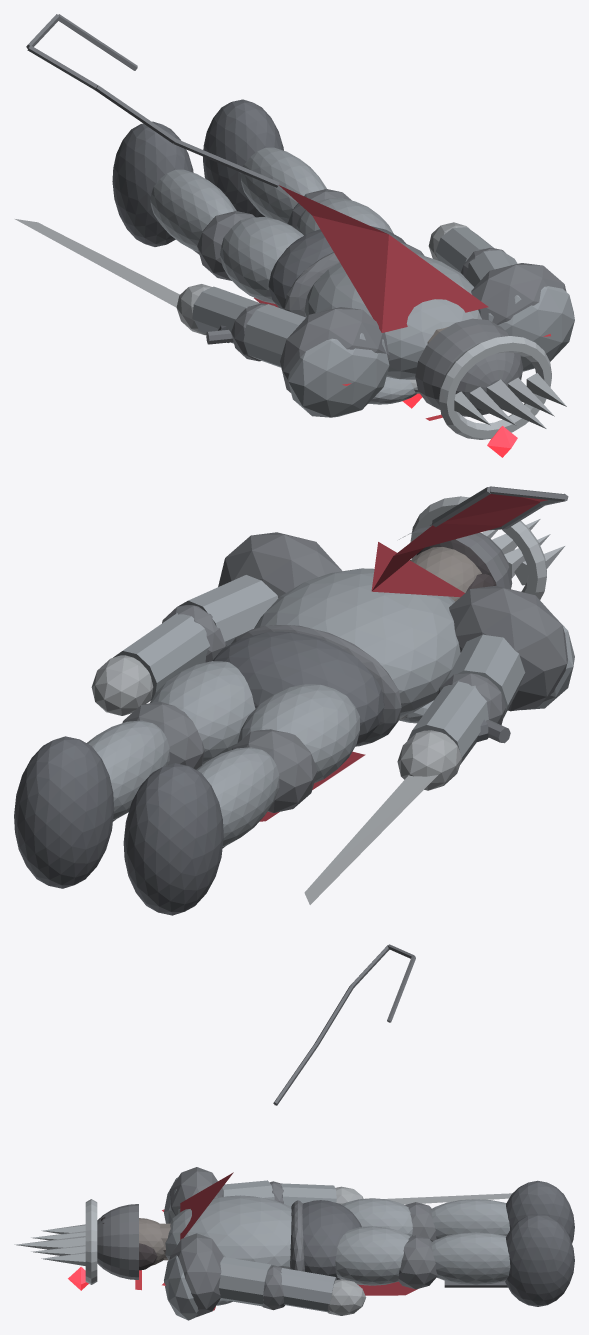
The model's file is demir-tac.glb.
The picture shows the model from 3 angles, top to bottom: view 1: azimuth 30°, elevation 25°; view 2: azimuth 150°, elevation 25°; view 3: azimuth 270°, elevation 25°; orthographic projection. The views are drawn at different scales.
Visible parts, largest first — view 1: flowing_crimson_cape, pauldron_plate-1, torso, boot_-1, demir-tac-helmet, boot_1, thigh_-1, shin_greave_-1, demir-tac-crown-band, shin_greave_1, pauldron_base-1, pauldron_base1 (+18 smaller); view 2: torso, boot_-1, boot_1, pelvis, pauldron_base-1, thigh_-1, flowing_crimson_cape, thigh_1, shin_greave_-1, pauldron_base1, shin_greave_1, forearm1 (+19 smaller); view 3: torso, boot_1, shin_greave_1, thigh_1, pelvis, demir-tac-helmet, pauldron_base1, shin_greave_-1, boot_-1, upper_arm1, forearm1, thigh_-1 (+15 smaller).
Part boxes in pixels (left/top/right/bottom): flowing_crimson_cape: left=279, top=185, right=488, bottom=332; pauldron_plate-1: left=288, top=333, right=389, bottom=417; torso: left=304, top=253, right=481, bottom=379; boot_-1: left=112, top=121, right=193, bottom=246; demir-tac-helmet: left=415, top=318, right=523, bottom=416; boot_1: left=203, top=99, right=283, bottom=217; thigh_-1: left=220, top=217, right=303, bottom=303; shin_greave_-1: left=150, top=169, right=236, bottom=251; demir-tac-crown-band: left=439, top=336, right=551, bottom=439; shin_greave_1: left=241, top=147, right=326, bottom=223; pauldron_base-1: left=280, top=307, right=389, bottom=392; pauldron_base1: left=471, top=263, right=566, bottom=324; torso: left=254, top=568, right=460, bottom=716; boot_-1: left=123, top=763, right=223, bottom=915; boot_1: left=14, top=736, right=114, bottom=888; pelvis: left=212, top=631, right=384, bottom=745; pauldron_base-1: left=449, top=585, right=567, bottom=711; thigh_-1: left=237, top=684, right=359, bottom=782; flowing_crimson_cape: left=371, top=494, right=547, bottom=597; thigh_1: left=150, top=661, right=255, bottom=764; shin_greave_-1: left=196, top=747, right=279, bottom=846; pauldron_base1: left=218, top=532, right=342, bottom=597; shin_greave_1: left=86, top=720, right=169, bottom=820; forearm1: left=113, top=613, right=209, bottom=702; torso: left=165, top=1195, right=291, bottom=1268; boot_1: left=505, top=1214, right=574, bottom=1306; shin_greave_1: left=431, top=1232, right=510, bottom=1284; thigh_1: left=335, top=1226, right=410, bottom=1285; pelvis: left=302, top=1200, right=361, bottom=1279; demir-tac-helmet: left=97, top=1204, right=138, bottom=1279; pauldron_base1: left=170, top=1233, right=223, bottom=1316; shin_greave_-1: left=431, top=1199, right=509, bottom=1239; boot_-1: left=506, top=1180, right=574, bottom=1243; upper_arm1: left=219, top=1257, right=272, bottom=1306; forearm1: left=280, top=1268, right=336, bottom=1311; thigh_-1: left=341, top=1198, right=412, bottom=1236.
Bounding box in the file's own units: 1.76 × 1.42 × 2.71.
